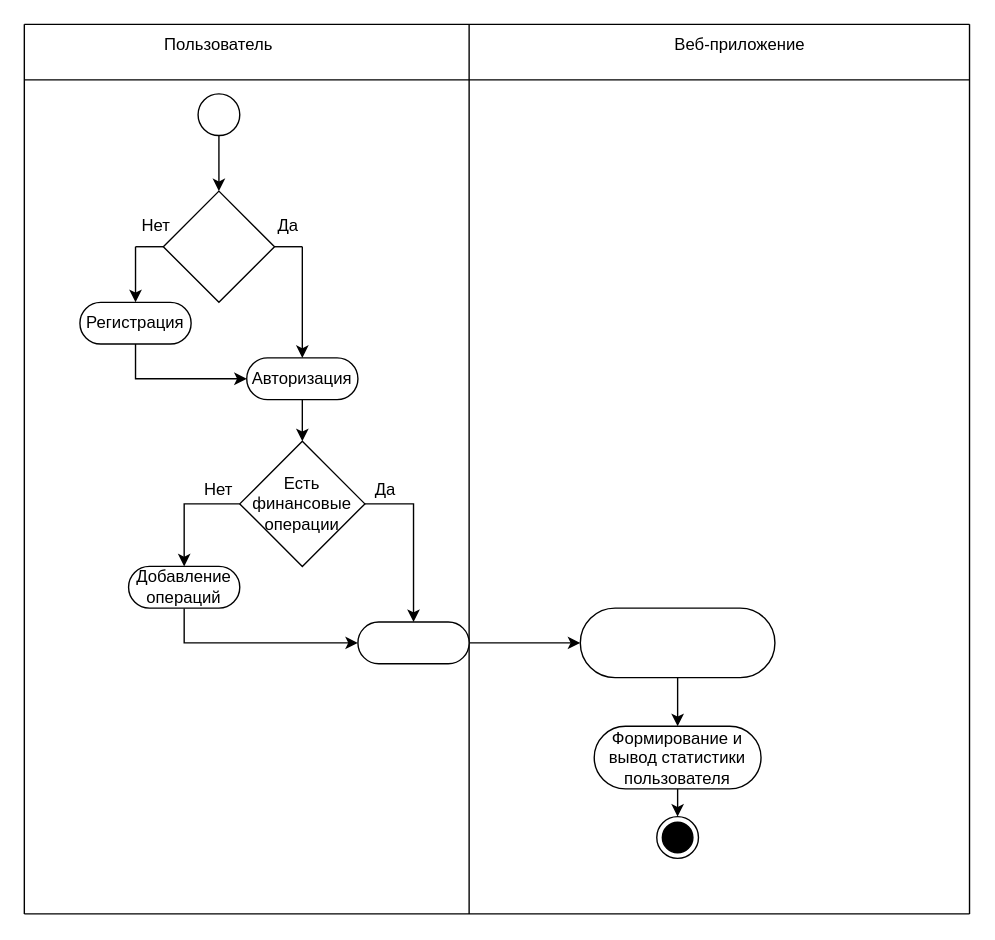
Some shapes in this 995 by 940 pixel diagram are drawn without their labels. The shapes that lost their labels are listed below. From the top down, each one's box as (x1, y1, x2, y2) in pixels, then its label:
(162, 190, 275, 302): Есть аккаунт
(357, 621, 469, 664): Просмотр статистики
(579, 607, 775, 678): Анализ финансовых операций пользователя
